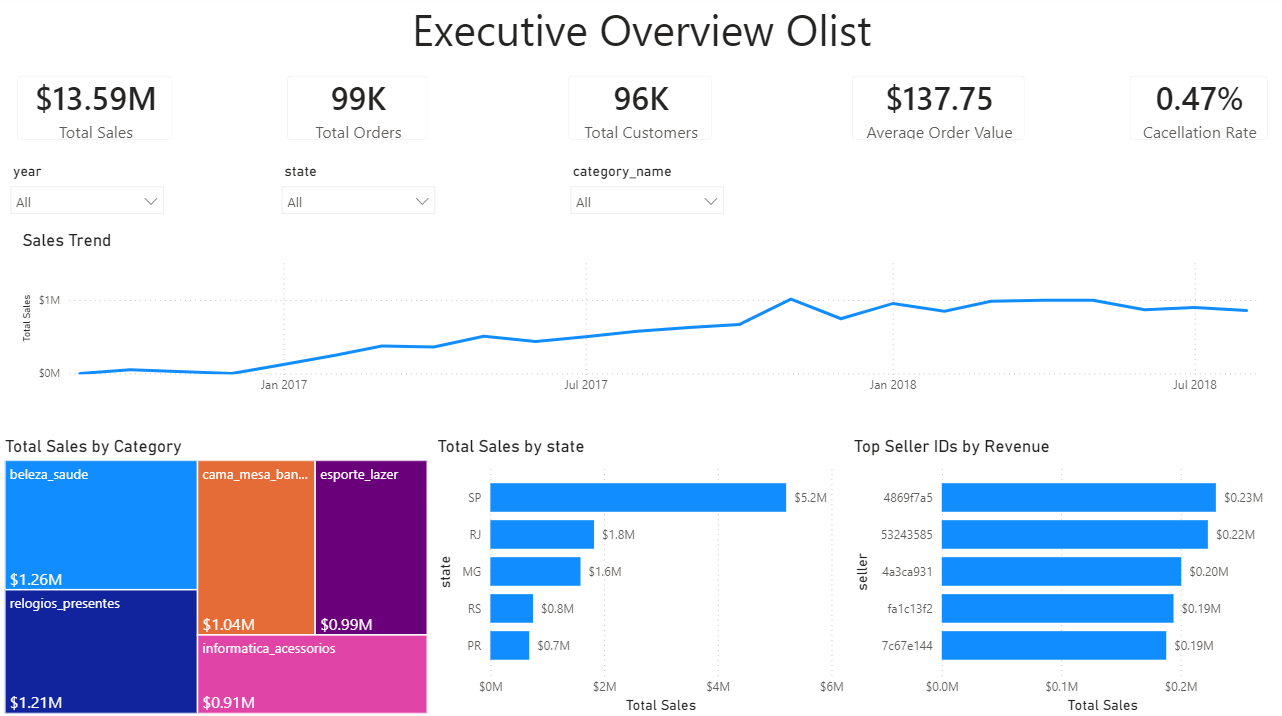

This screenshot's page, from the dashboard's own definition file:
{"tool":"powerbi","page":{"name":"Executive Overview","canvas":[1280,720],"ordinal":0},"visuals":[{"type":"cardVisual","fields":{"Data":["all_measures.Total Sales"]},"box":[0,63.4,189.1,98.3],"z":0},{"type":"cardVisual","fields":{"Data":["all_measures.Total Orders"]},"box":[268.7,63.4,174.2,98.3],"z":1000},{"type":"cardVisual","fields":{"Data":["all_measures.Customers"]},"box":[548.6,63.4,177.9,98.3],"z":2000},{"type":"cardVisual","fields":{"Data":["all_measures.Average Order Value"]},"box":[831,63.4,206.5,98.3],"z":3000},{"type":"cardVisual","fields":{"Data":["all_measures.Cacellation Rate"]},"box":[1107.1,63.4,172.9,98.3],"z":4000},{"type":"lineChart","title":"Sales Trend","fields":{"Category":["dim_date.date.Variation.Date Hierarchy.Year","dim_date.date.Variation.Date Hierarchy.Month"],"Y":["all_measures.Total Sales"]},"box":[17.4,233.9,1250.2,172.9],"z":5000},{"type":"treemap","title":"Total Sales by Category","fields":{"Group":["dim_product.category_name"],"Values":["all_measures.Total Sales"]},"box":[0,439.1,430.4,281.1],"z":6000},{"type":"clusteredBarChart","title":"Top Seller IDs by Revenue","fields":{"Category":["dim_seller.seller"],"Y":["all_measures.Total Sales"]},"box":[844.6,439.1,435.4,281.1],"z":7000},{"type":"slicer","fields":{"Values":["dim_date.year"]},"box":[0,161.7,172.9,63.4],"z":8000},{"type":"slicer","fields":{"Values":["dim_customer.state"]},"box":[269.9,161.7,172.9,70.9],"z":9000},{"type":"slicer","fields":{"Values":["dim_product.category_name"]},"box":[557.3,161.7,172.9,72.1],"z":10000},{"type":"barChart","fields":{"Category":["dim_customer.state"],"Y":["all_measures.Total Sales"]},"box":[430.4,439.1,414.2,281.1],"z":11000},{"type":"textbox","box":[355.8,0,566,72.1],"z":12000}]}

Visuals, with their boxes in screenshot pixels (x1, y1, x2, y2), scaled from the page's 1280x720 canvas onto the 1282x716 screenshot:
cardVisual - all_measures.Total Sales: x1=0, y1=63, x2=189, y2=161
cardVisual - all_measures.Total Orders: x1=269, y1=63, x2=444, y2=161
cardVisual - all_measures.Customers: x1=549, y1=63, x2=728, y2=161
cardVisual - all_measures.Average Order Value: x1=832, y1=63, x2=1039, y2=161
cardVisual - all_measures.Cacellation Rate: x1=1109, y1=63, x2=1281, y2=161
"Sales Trend" lineChart: x1=17, y1=233, x2=1270, y2=405
"Total Sales by Category" treemap: x1=0, y1=437, x2=431, y2=715
"Top Seller IDs by Revenue" clusteredBarChart: x1=846, y1=437, x2=1281, y2=715
slicer - dim_date.year: x1=0, y1=161, x2=173, y2=224
slicer - dim_customer.state: x1=270, y1=161, x2=443, y2=231
slicer - dim_product.category_name: x1=558, y1=161, x2=731, y2=233
barChart - dim_customer.state x all_measures.Total Sales: x1=431, y1=437, x2=846, y2=715
textbox: x1=356, y1=0, x2=923, y2=72
